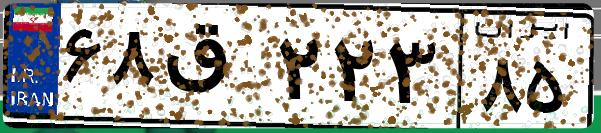2: (270, 28, 330, 110), (330, 28, 385, 110)
3: (385, 28, 445, 110)
5: (525, 38, 570, 115)
6: (57, 26, 110, 100)
8: (475, 38, 525, 113), (110, 28, 158, 98)
ق: (158, 20, 270, 120)
